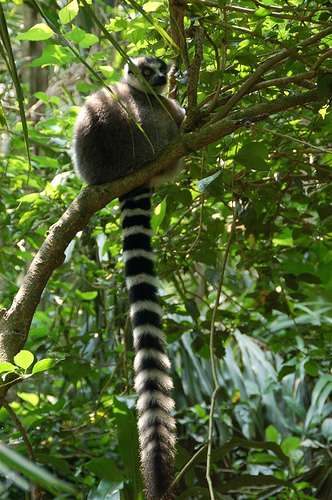cat: (67, 53, 186, 498)
